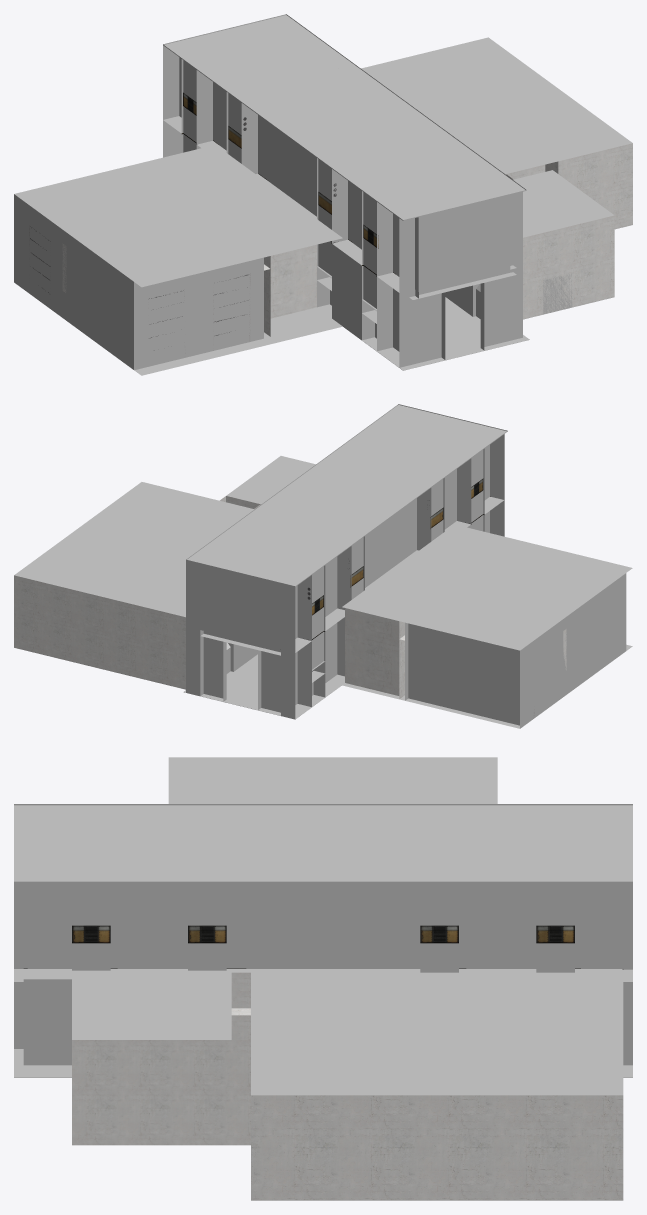
The model's file is LC_cont2_scps3.obj.
The picture shows the model from 3 angles, top to bottom: view 1: azimuth 30°, elevation 25°; view 2: azimuth 150°, elevation 25°; view 3: azimuth 270°, elevation 25°; orthographic projection. The views are drawn at different scales.
Parts seen in each view (by area): view 1: LC_cont2_scps3; view 2: LC_cont2_scps3; view 3: LC_cont2_scps3.
Part boxes in pixels (x1=…): LC_cont2_scps3: x1=14, y1=14, x2=632, y2=375; LC_cont2_scps3: x1=14, y1=404, x2=632, y2=728; LC_cont2_scps3: x1=14, y1=757, x2=632, y2=1200.
Size of the model in its own units: 25.76 by 7.09 by 20.48.
